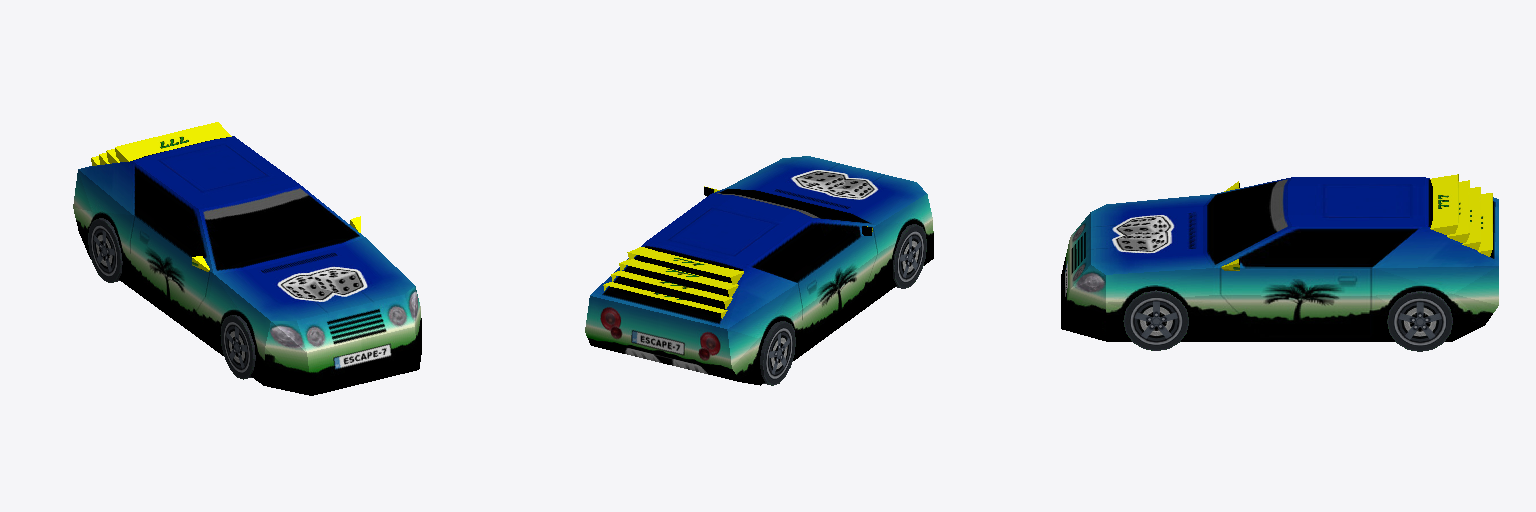
3 renders of one model, left to right at view 1: azimuth 30°, elevation 25°; view 2: azimuth 150°, elevation 25°; view 3: azimuth 270°, elevation 25°, orthographic.
Visible parts, largest first — view 1: car; view 2: car; view 3: car.
Boxes of the visible parts, box(x1,y1,x2,y2) form: car: box(73, 122, 421, 395); car: box(585, 156, 933, 385); car: box(1061, 174, 1498, 351).
Size of the model in its own units: 1.99 by 1.27 by 4.49.
Materials: 1 (1 with a texture image).